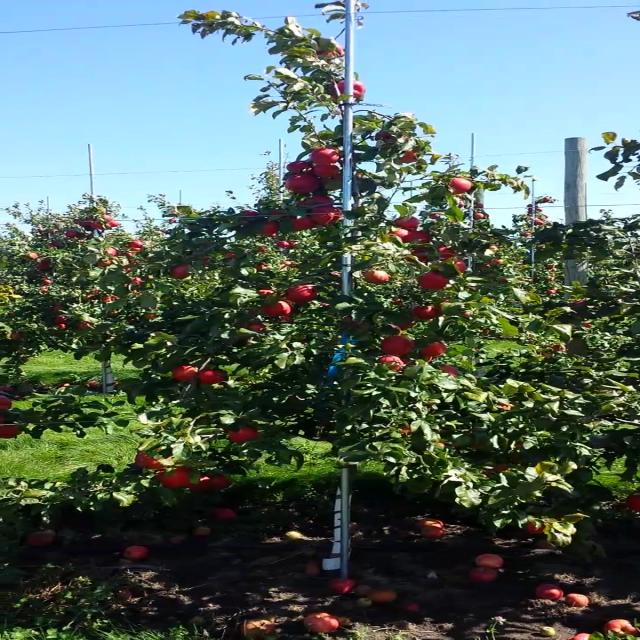apple: (137, 449, 171, 469), (156, 468, 190, 488), (285, 174, 319, 193), (332, 77, 364, 97), (312, 207, 344, 227), (286, 284, 318, 302), (382, 337, 414, 355), (417, 271, 447, 289), (228, 427, 260, 443), (308, 148, 338, 164), (446, 177, 471, 195), (264, 301, 292, 317), (377, 356, 405, 372), (388, 228, 415, 244), (402, 247, 428, 263), (175, 363, 198, 381), (619, 491, 639, 511), (417, 342, 445, 356), (363, 270, 389, 284), (408, 304, 434, 318), (314, 45, 344, 57), (292, 216, 314, 232), (260, 222, 282, 238), (171, 263, 193, 279), (396, 149, 419, 164), (200, 370, 224, 384), (433, 244, 454, 260), (524, 520, 548, 534), (0, 425, 22, 440), (312, 164, 339, 176), (285, 162, 311, 174), (317, 174, 343, 186), (205, 476, 228, 488), (396, 215, 418, 227), (413, 232, 432, 244), (188, 480, 210, 490), (245, 322, 267, 332), (308, 196, 334, 204), (441, 366, 459, 376), (432, 300, 444, 315), (343, 316, 361, 326), (0, 395, 12, 410), (490, 463, 509, 471), (393, 321, 412, 329), (398, 426, 412, 436), (378, 132, 394, 140), (458, 260, 468, 272), (257, 289, 275, 295), (499, 403, 512, 411), (239, 212, 261, 216), (294, 201, 316, 205), (268, 210, 282, 215)
